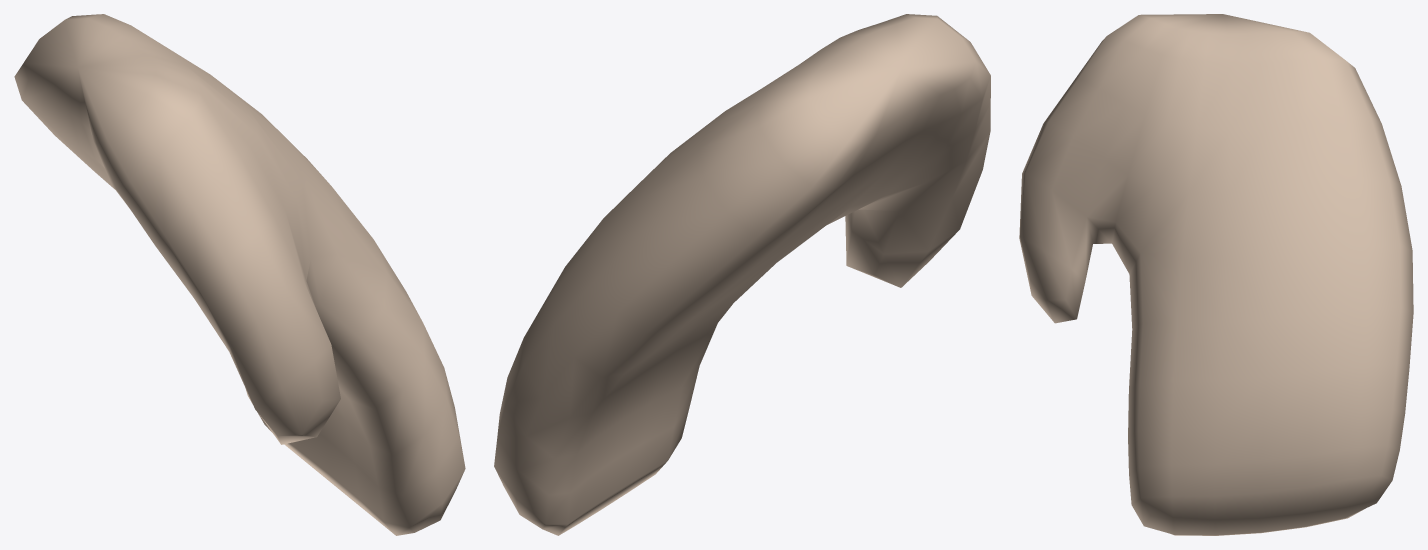
The model's file is RightHand.fbx.
The picture shows the model from 3 angles, left to right: view 1: azimuth 30°, elevation 25°; view 2: azimuth 150°, elevation 25°; view 3: azimuth 270°, elevation 25°; orthographic projection. The views are drawn at different scales.
Parts seen in each view (by area): view 1: polySurface56; view 2: polySurface56; view 3: polySurface56.
Part boxes in pixels (left/top/right/bottom): polySurface56: left=14, top=14, right=465, bottom=535; polySurface56: left=494, top=14, right=990, bottom=535; polySurface56: left=1019, top=14, right=1413, bottom=535.
Bounding box in the file's own units: 26.7 × 35.38 × 30.24.
